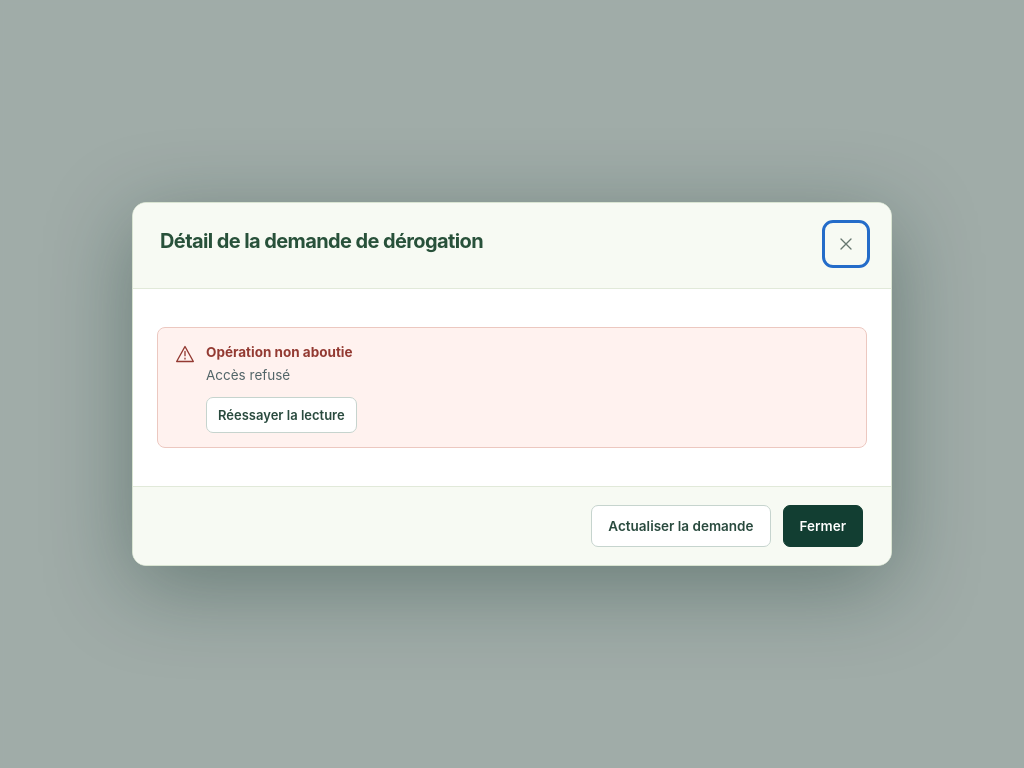
it: permet de reprendre la lecture individuelle après un refus
The image size is (1024, 768).
Check: the message "Opération non aboutie Accès refusé Réessayer la lecture" is shown, box left=157, top=326, right=867, bottom=448
What coordinates should you click on to do the following:
click the button "Actualiser la demande"
I would click on:
 (681, 526)
Its box is left=591, top=505, right=770, bottom=547.
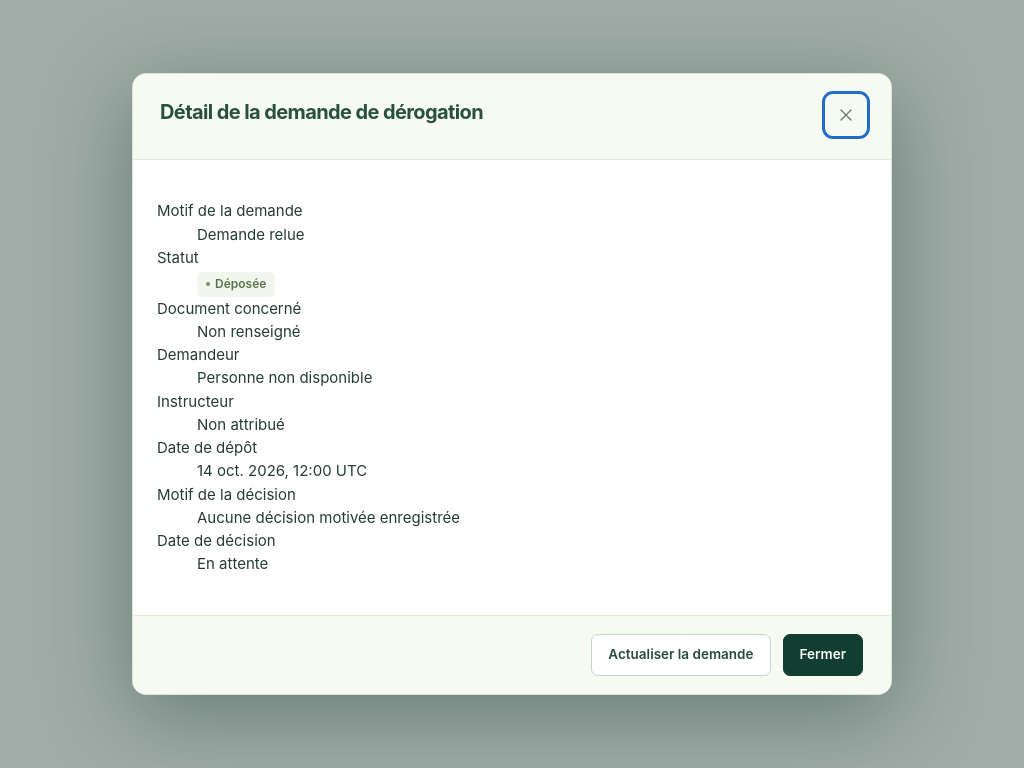
Check: the text "Demande relue" is shown, box left=197, top=225, right=304, bottom=244
